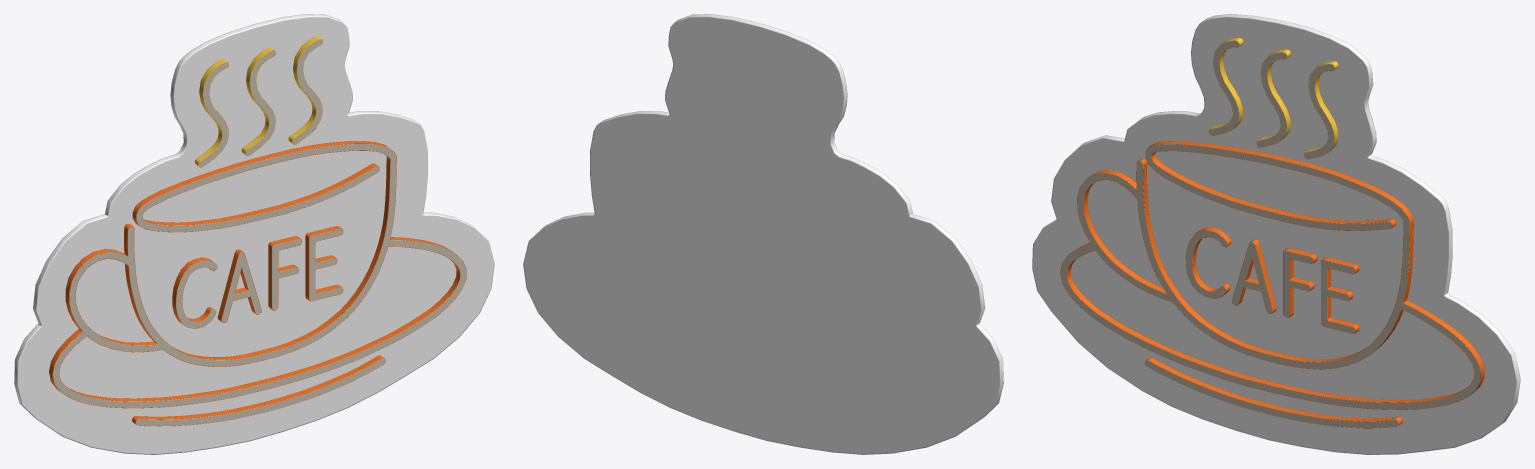
The model's file is Sign.obj.
The picture shows the model from 3 angles, left to right: view 1: azimuth 30°, elevation 25°; view 2: azimuth 150°, elevation 25°; view 3: azimuth 330°, elevation 25°; orthographic projection.
Visible parts, largest first — view 1: Sign; view 2: Sign; view 3: Sign.
Part boxes in pixels (x1=…): Sign: x1=14, y1=14, x2=494, y2=454; Sign: x1=523, y1=14, x2=1003, y2=454; Sign: x1=1032, y1=14, x2=1520, y2=454.
Bounding box in the file's own units: 25.07 × 20.72 × 0.6465.
Materials: 1 (1 with a texture image).
